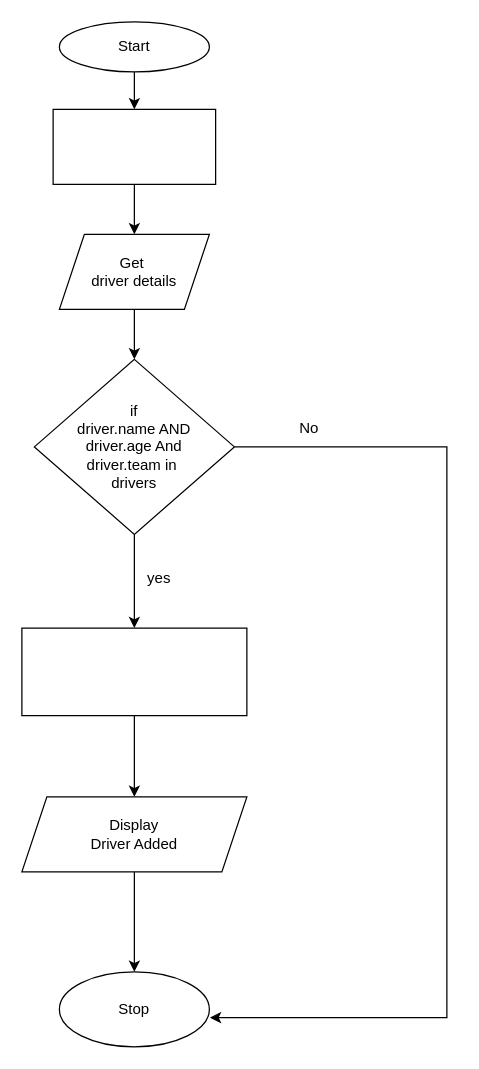
Image size: 479x1069. Some labels were removed from this diagram. Each missing label, with the centre of its shape:
"Add driver details to the arraylist" belongs at (134,671).
"Declare variables" belongs at (134,146).
